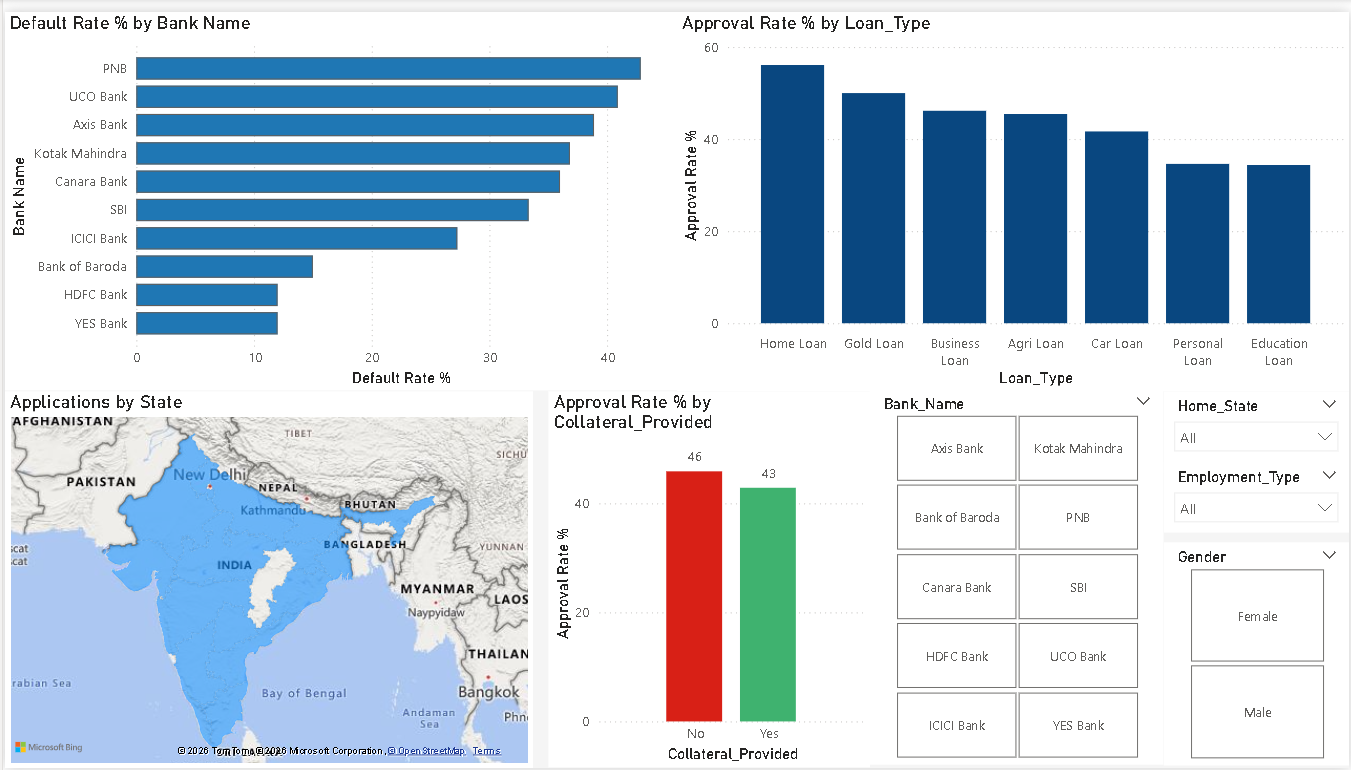

What the dashboard file says about the page in this screenshot:
{"tool":"powerbi","page":{"name":"Bank Performance Dashboard","canvas":[1280,720],"ordinal":2},"visuals":[{"type":"filledMap","title":"Applications by State","fields":{"Category":["Banking_Data.Home_State"]},"box":[0,360.8,502.8,359.3],"z":0},{"type":"clusteredColumnChart","fields":{"Category":["Banking_Data.Loan_Type"],"Y":["Banking_Data.Approval Rate %"]},"box":[640.2,0,640.2,360.8],"z":1000},{"type":"clusteredColumnChart","fields":{"Category":["Banking_Data.Collateral_Provided"],"Y":["Banking_Data.Approval Rate %"]},"box":[517.9,360.8,306.5,357.8],"z":2000},{"type":"slicer","fields":{"Values":["Banking_Data.Bank_Name"]},"box":[824.3,359.3,279.5,358.1],"z":3000},{"type":"barChart","fields":{"Category":["Banking_Data.Bank_Name"],"Y":["Banking_Data.Default Rate %"]},"box":[0,0,640.1,360.6],"z":5000},{"type":"slicer","fields":{"Values":["Banking_Data.Home_State"]},"box":[1103.8,360.6,176.5,77.3],"z":6000},{"type":"slicer","fields":{"Values":["Banking_Data.Employment_Type"]},"box":[1103.8,428.9,176.5,67],"z":7000},{"type":"slicer","fields":{"Values":["Banking_Data.Gender"]},"box":[1103.8,504.9,176.5,212.5],"z":8000}]}

Visuals, with their boxes in screenshot pixels (x1, y1, x2, y2), scaled from the page's 1280x720 canvas onto the 1351x770 screenshot:
"Applications by State" filledMap: (0, 386, 531, 769)
clusteredColumnChart - Banking_Data.Loan_Type x Banking_Data.Approval Rate %: (676, 0, 1350, 386)
clusteredColumnChart - Banking_Data.Collateral_Provided x Banking_Data.Approval Rate %: (547, 386, 870, 769)
slicer - Banking_Data.Bank_Name: (870, 384, 1165, 767)
barChart - Banking_Data.Bank_Name x Banking_Data.Default Rate %: (0, 0, 676, 386)
slicer - Banking_Data.Home_State: (1165, 386, 1350, 468)
slicer - Banking_Data.Employment_Type: (1165, 459, 1350, 530)
slicer - Banking_Data.Gender: (1165, 540, 1350, 767)
